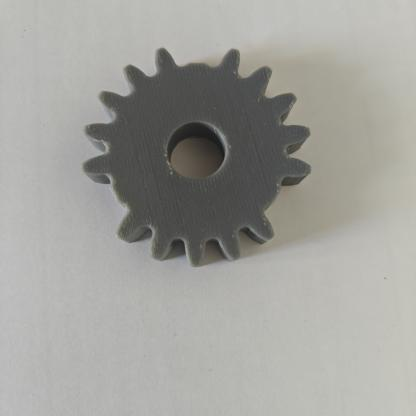defect: (70, 152, 160, 256), (235, 157, 329, 242), (147, 33, 254, 96)
gear: (56, 17, 344, 285)
